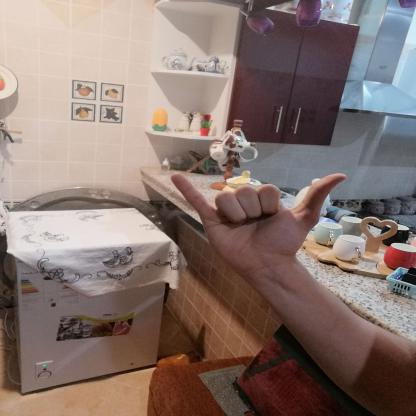YA: (157, 160, 361, 284)
